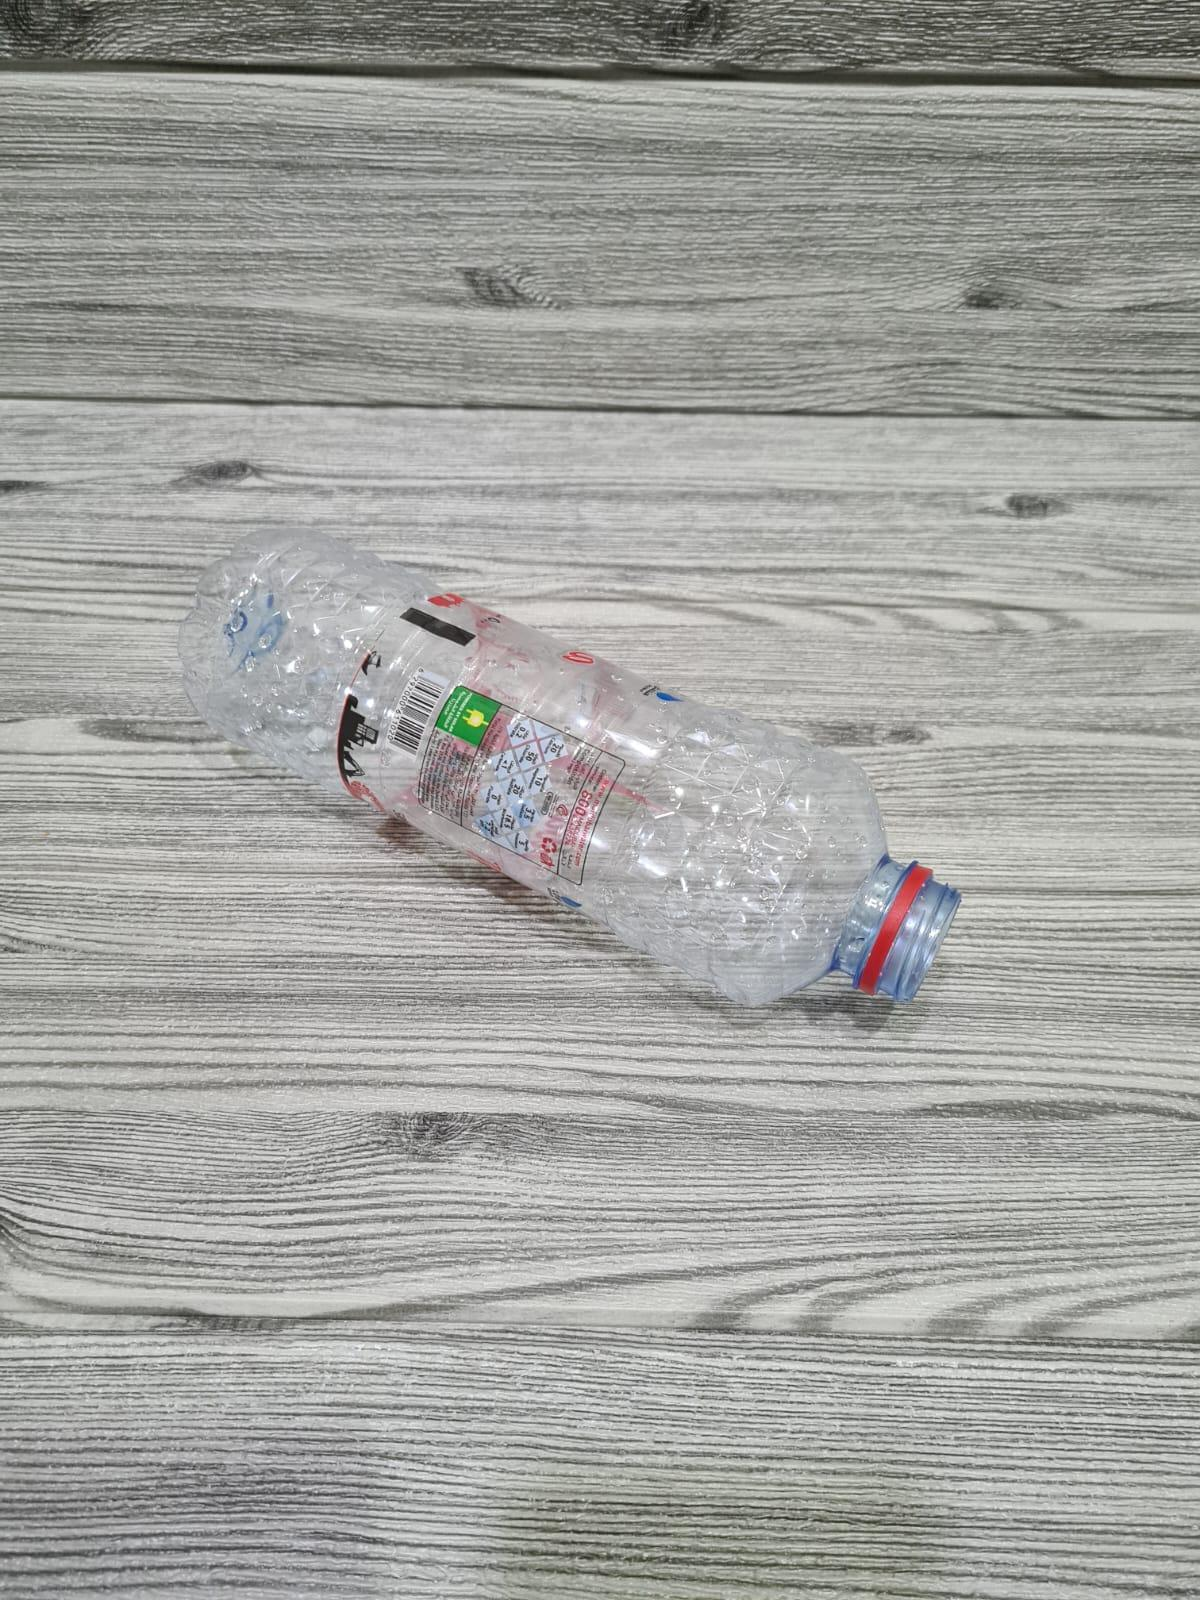bottle: (175, 501, 971, 1024)
